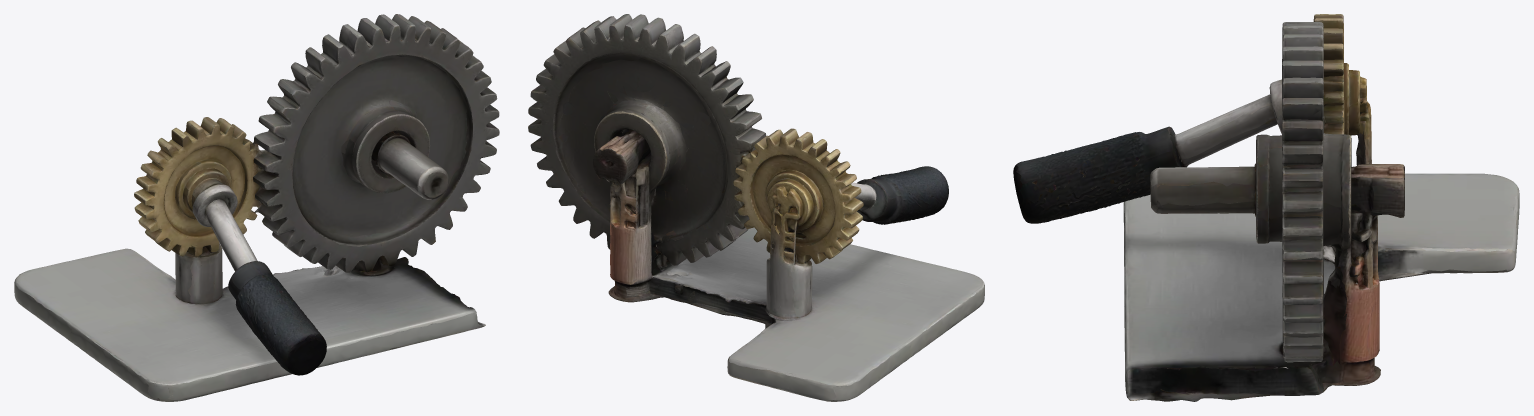
Rendered from gear-train-trellis.glb.
3 views of the same model, side by side, from view 1: azimuth 30°, elevation 25°; view 2: azimuth 150°, elevation 25°; view 3: azimuth 270°, elevation 25° (orthographic). The views are drawn at different scales.
Parts seen in each view (by area): view 1: driven_gear, base_plate, drive_gear, crank_handle, axle_support, axle; view 2: driven_gear, base_plate, drive_gear, axle_support, crank_handle; view 3: base_plate, driven_gear, crank_handle, axle_support, axle, drive_gear.
Part boxes in pixels (<box>): driven_gear: <box>254,14,499,272</box>; base_plate: <box>14,248,485,401</box>; drive_gear: <box>134,117,266,256</box>; crank_handle: <box>192,185,326,375</box>; axle_support: <box>175,131,411,304</box>; axle: <box>377,134,448,199</box>; driven_gear: <box>528,14,766,291</box>; base_plate: <box>608,227,984,401</box>; drive_gear: <box>733,128,863,263</box>; axle_support: <box>593,129,812,323</box>; crank_handle: <box>851,166,948,224</box>; base_plate: <box>1123,173,1519,401</box>; driven_gear: <box>1256,22,1379,370</box>; crank_handle: <box>1013,94,1277,223</box>; axle_support: <box>1254,107,1404,317</box>; axle: <box>1150,166,1255,216</box>; drive_gear: <box>1269,14,1371,135</box>.
Size of the model in its own units: 0.2 by 0.1276 by 0.1705.
Materials: 1 (1 with a texture image).
